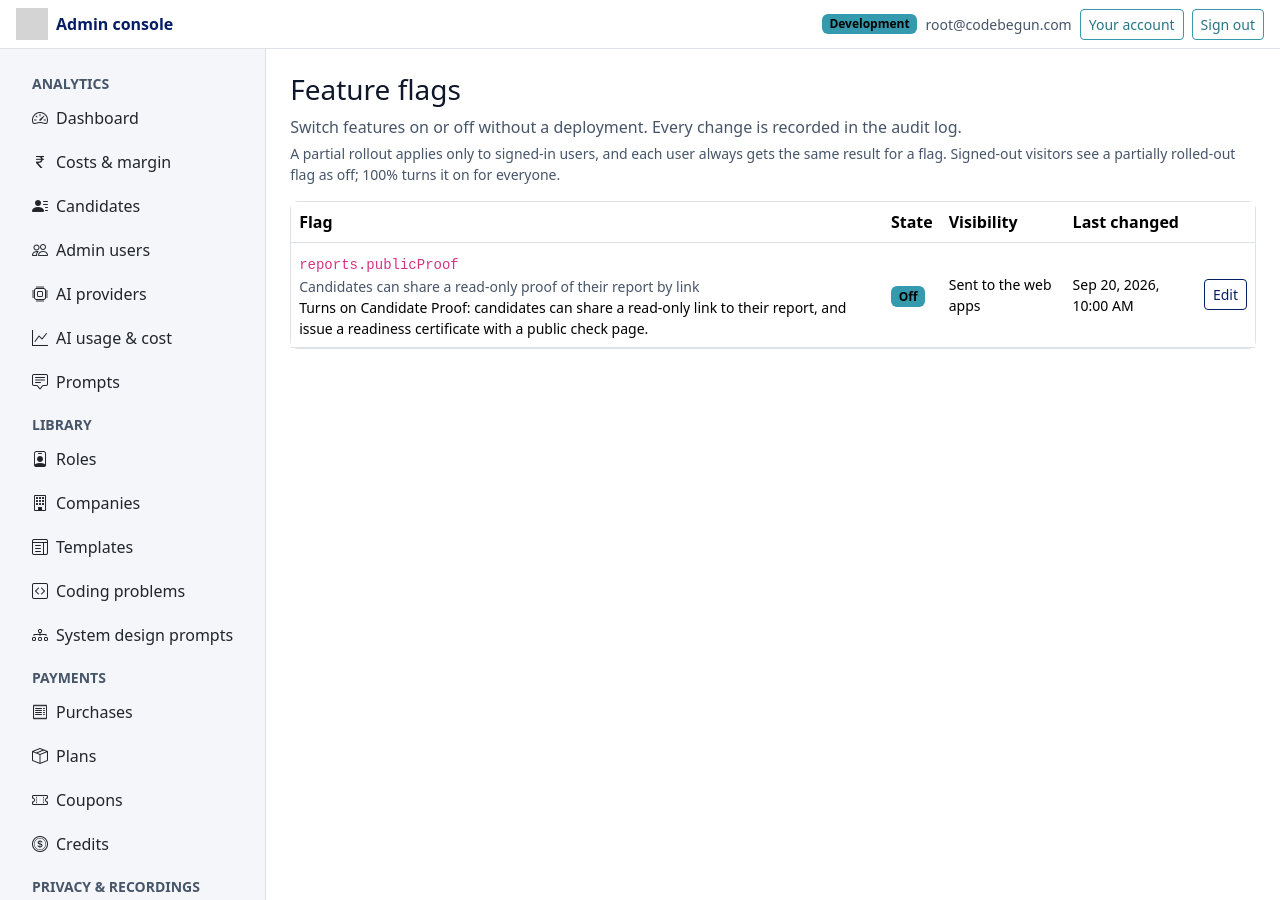
it: feature flags › lets super admins switch a flag and set its rollout with a reason
This screenshot has width=1280, height=900.
Click the button with aria-label "Edit reports.publicProof" at (1225, 295), box [1204,279,1247,310]
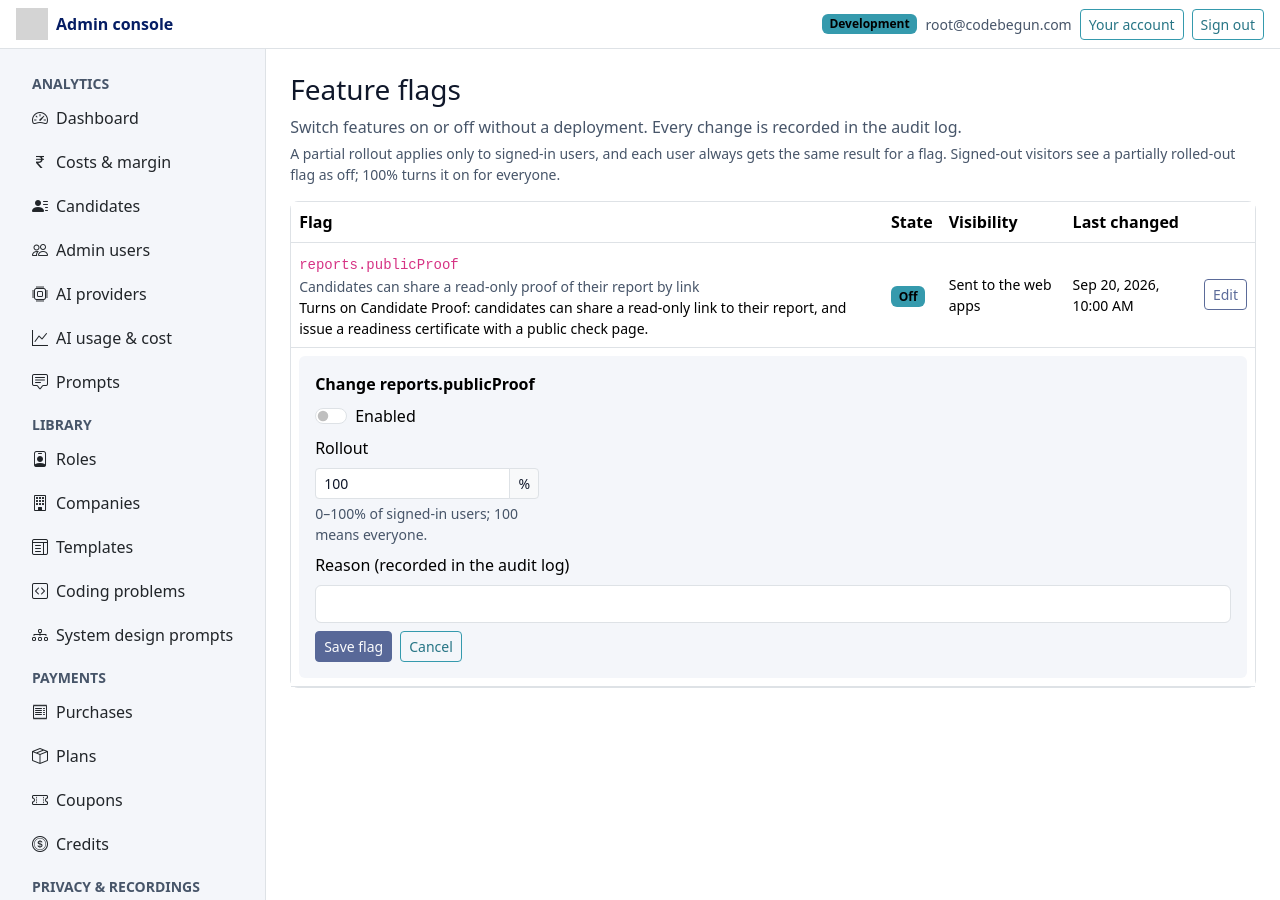
Click the switch labelled "Enabled" at (331, 416), box [315,408,347,424]
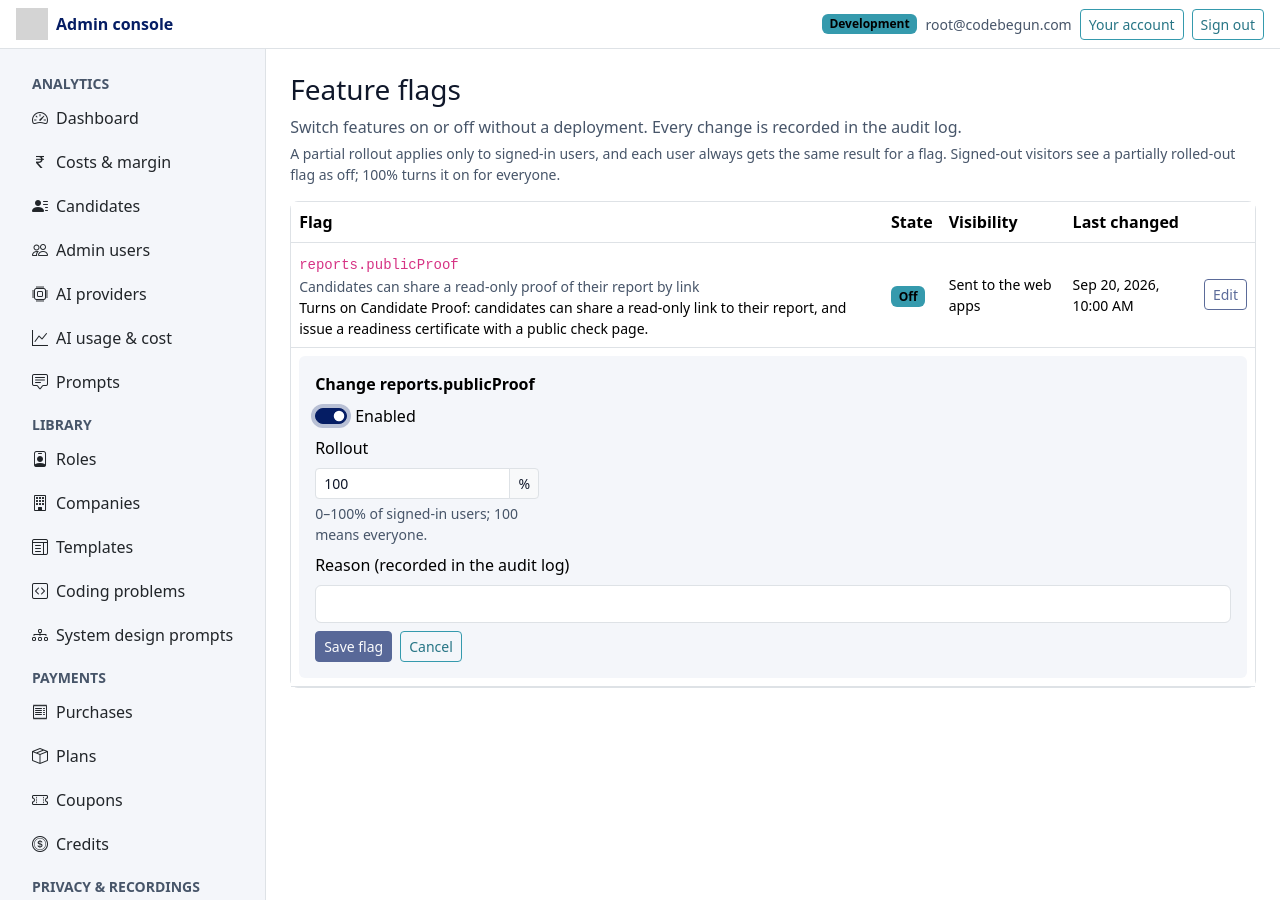
Replace the text in the number field labelled "Rollout" with "150" at (413, 483), box [315,468,510,499]
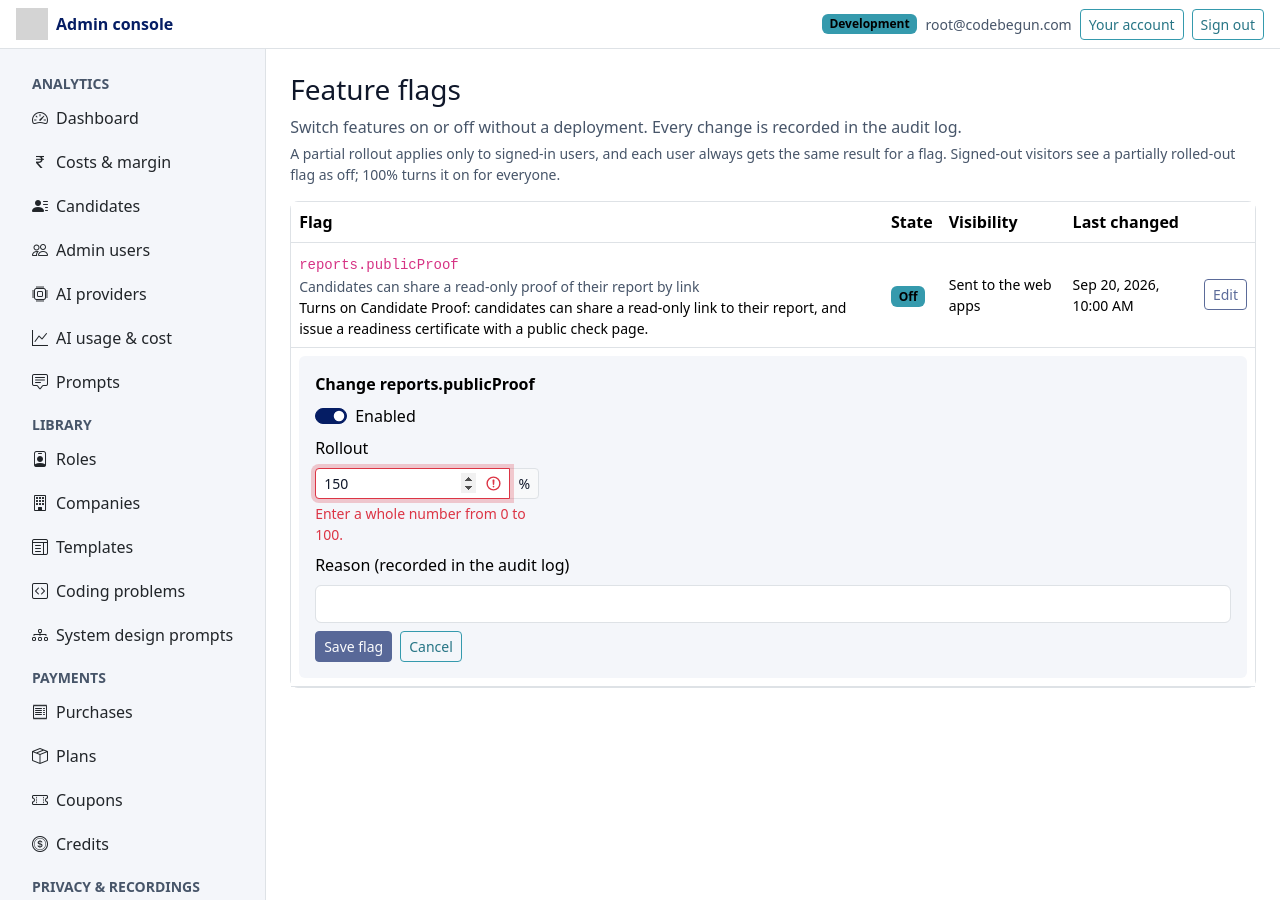
Result: the text "Enter a whole number from 0 to 100." is shown at [315,503,539,545]
Type "Pilot with a quarter of users" into the field labelled "Reason (recorded in the audit log)" at (773, 604), box [315,585,1231,623]
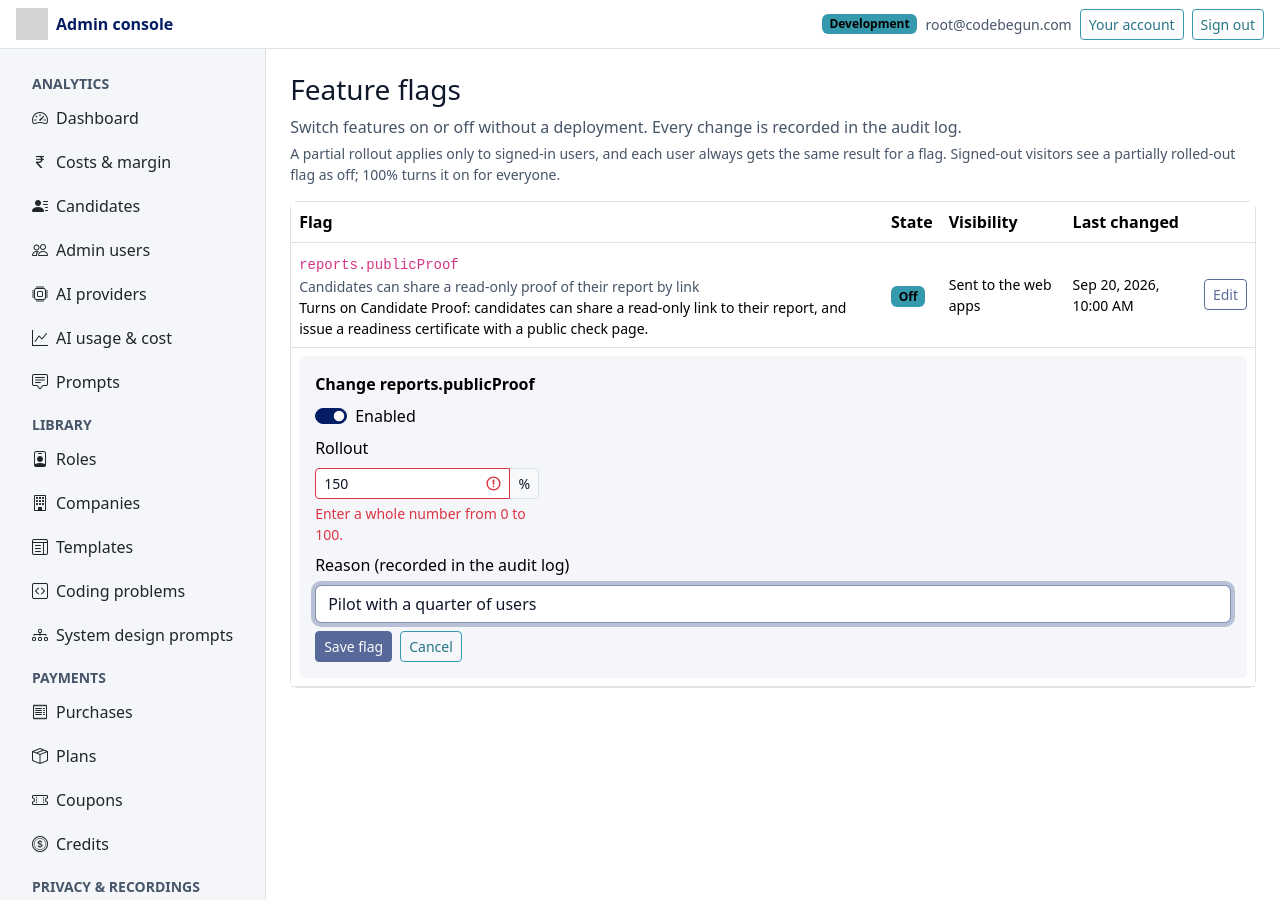
Result: the button "Save flag" is disabled at [315,631,392,662]
Replace the text in the number field labelled "Rollout" with "25" at (413, 483), box [315,468,510,499]
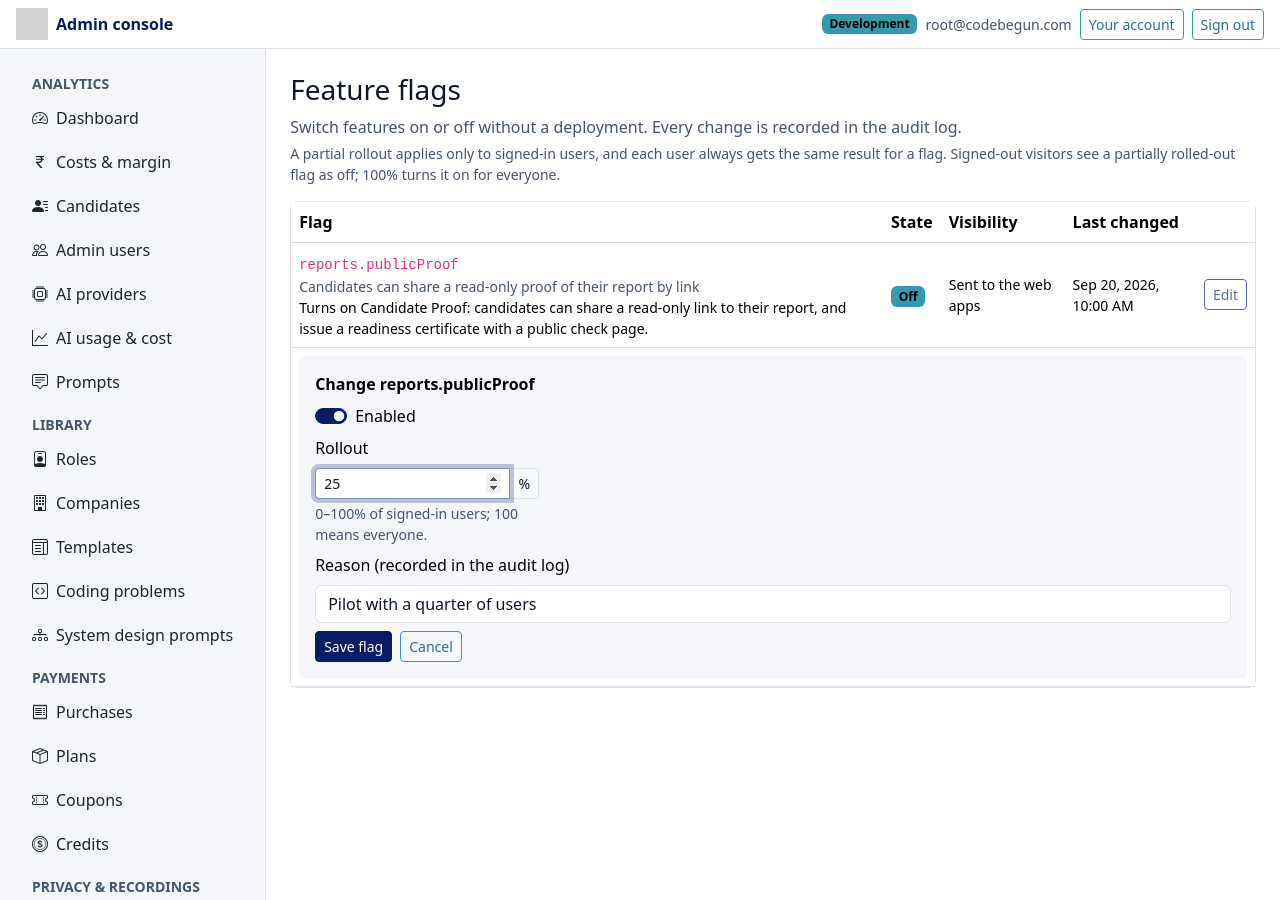
Click the button "Save flag" at (354, 646), box [315,631,392,662]
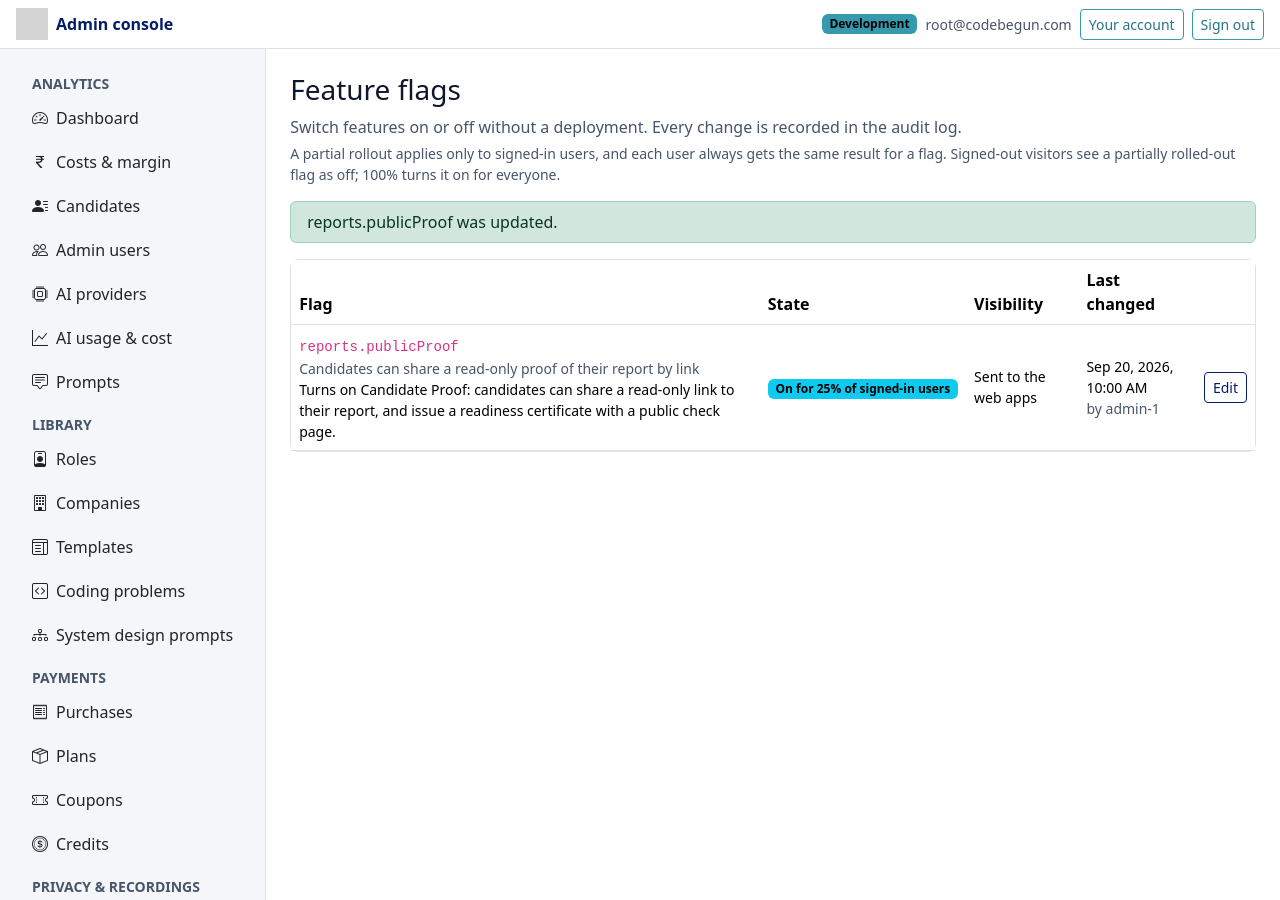
Result: the text "reports.publicProof was updated." is shown at [290,201,1256,243]
Result: the text "On for 25% of signed-in users" is shown at [768,379,958,399]
